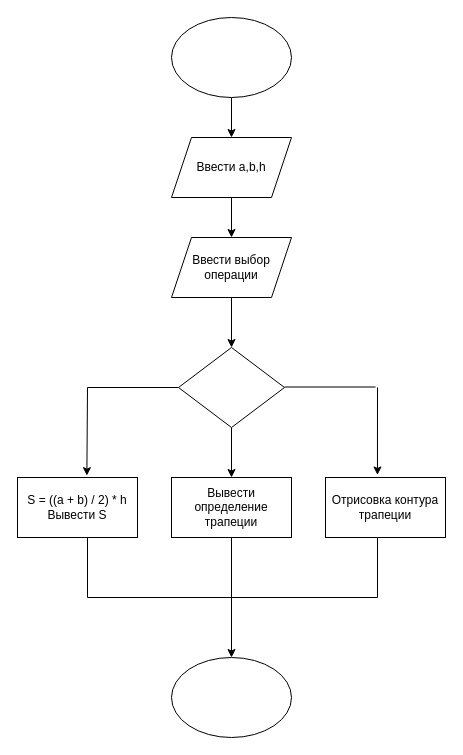
The diagram is 463 pixels wide and 755 high, and some of its shapes have lost their labels. The shapes that lost their labels are listed below. From the top down, each one's centre as x and y in pixels, then its label:
At (x=231, y=57): "Начало".
At (x=231, y=387): "Выбор".
At (x=231, y=697): "Конец".
